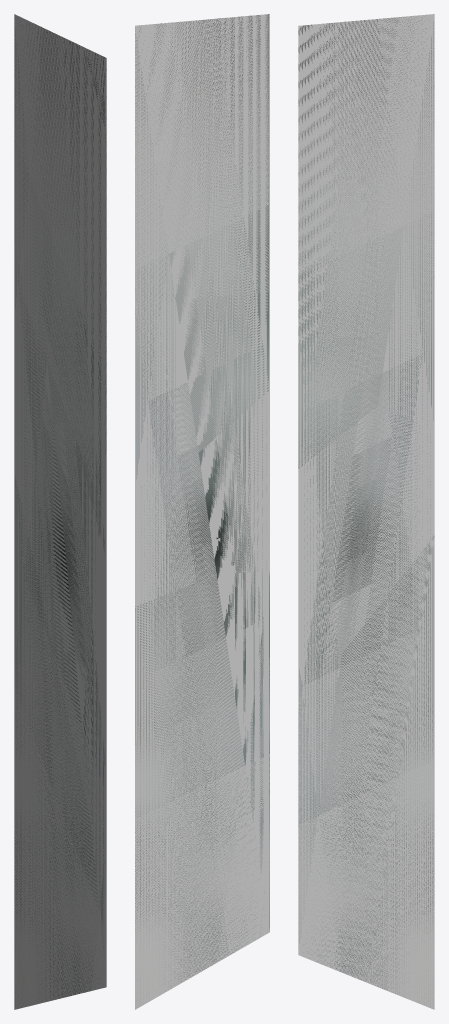
Rendered from 西庸城堡590.dae.
3 views of the same model, side by side, from view 1: azimuth 90°, elevation 25°; view 2: azimuth 150°, elevation 25°; view 3: azimuth 330°, elevation 25° (orthographic).
Parts seen in each view (by area): view 1: SketchUp; view 2: SketchUp; view 3: SketchUp.
Part boxes in pixels (<box>): SketchUp: <box>14,14,106,1009</box>; SketchUp: <box>135,14,269,1009</box>; SketchUp: <box>298,14,434,1009</box>.
Bounding box in the file's own units: 8.17 × 7.25 × 86.17.
